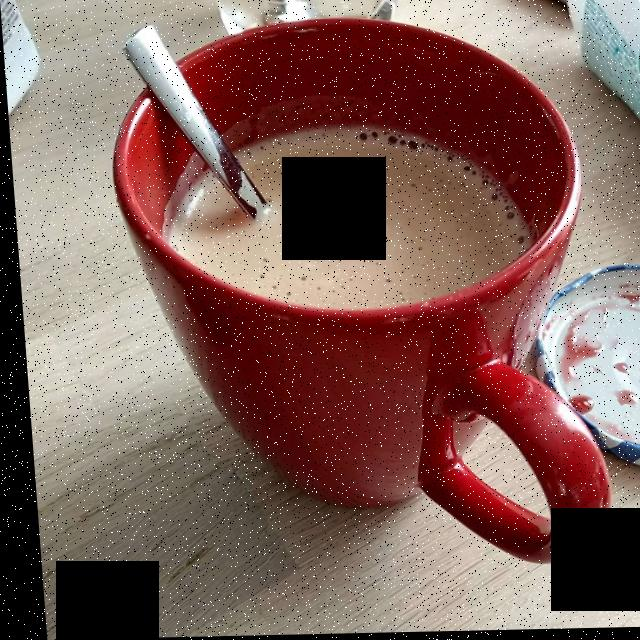white-coffee-with-caffeine: (166, 118, 524, 302)
